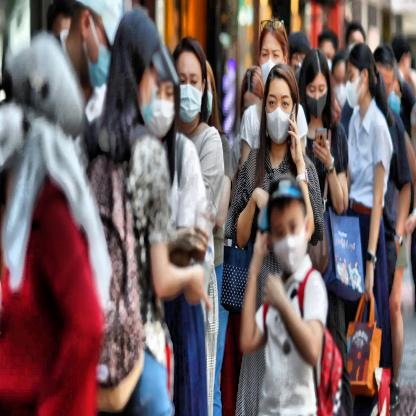not_wear: (111, 10, 170, 148), (267, 178, 310, 274), (176, 43, 208, 129), (266, 67, 294, 146), (260, 0, 289, 70), (304, 53, 332, 123), (350, 50, 373, 110), (376, 46, 394, 95), (289, 36, 306, 76), (348, 25, 365, 56)
